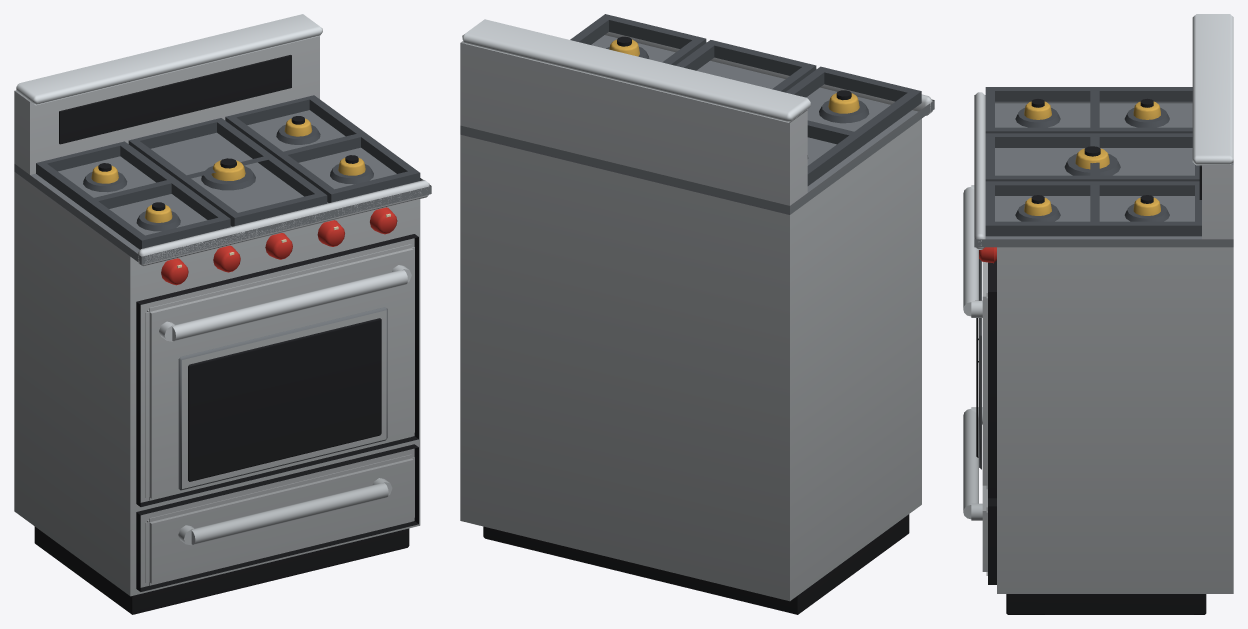
Rendered from Range_Gas_01.glb.
The picture shows the model from 3 angles, left to right: view 1: azimuth 30°, elevation 25°; view 2: azimuth 150°, elevation 25°; view 3: azimuth 270°, elevation 25°; orthographic projection. The views are drawn at different scales.
Parts seen in each view (by area): view 1: SM_Range_Gas_01; view 2: SM_Range_Gas_01; view 3: SM_Range_Gas_01.
Part boxes in pixels (x1,y1,x2,y2): SM_Range_Gas_01: (14, 14, 431, 614); SM_Range_Gas_01: (460, 14, 934, 614); SM_Range_Gas_01: (963, 14, 1233, 614).
Bounding box in the file's own units: 0.75 × 1.12 × 0.5945.
Materials: 1 (1 with a texture image).
